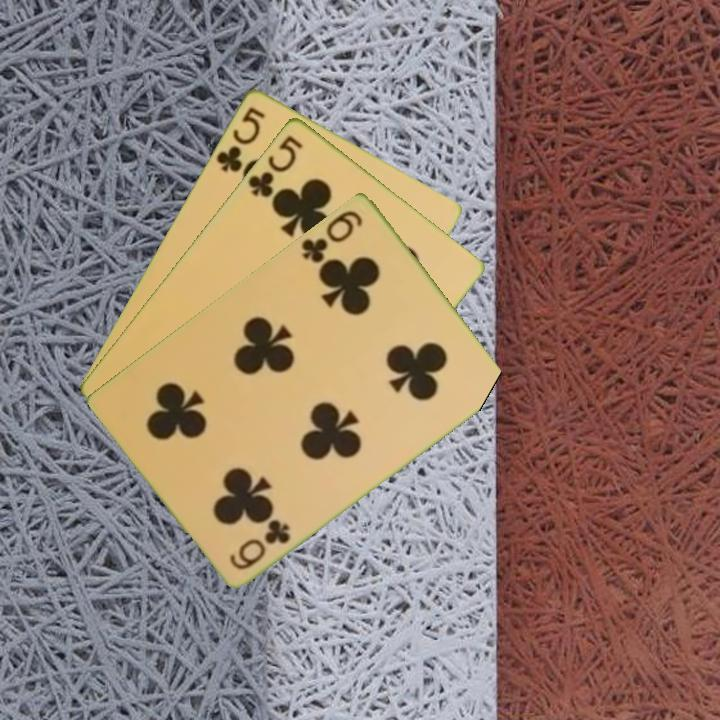5c: (244, 131, 306, 200), (212, 102, 268, 175)
6c: (298, 206, 366, 266), (226, 515, 294, 573)
